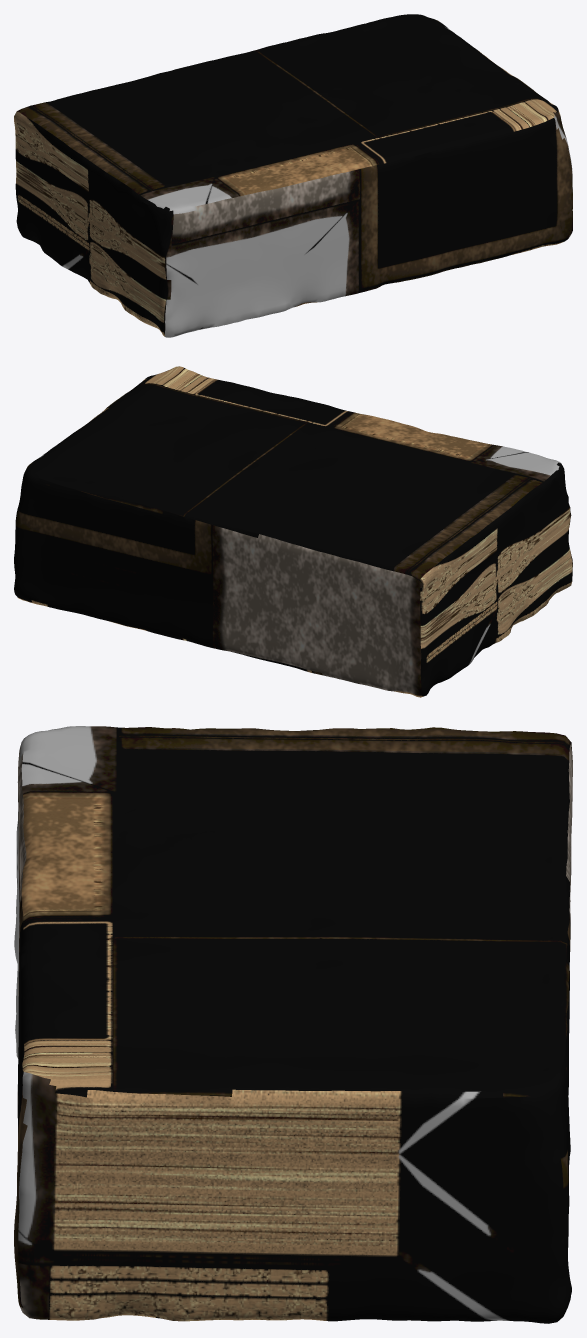
File: CigarBox.fbx
3 views of the same model, one above another, from view 1: azimuth 30°, elevation 25°; view 2: azimuth 150°, elevation 25°; view 3: azimuth 270°, elevation 25° (orthographic). The views are drawn at different scales.
Parts seen in each view (by area): view 1: Object_2; view 2: Object_2; view 3: Object_2.
Boxes of the visible parts, x1=… form: Object_2: x1=14, y1=14, x2=572, y2=337; Object_2: x1=14, y1=366, x2=572, y2=697; Object_2: x1=14, y1=726, x2=572, y2=1323.
Bounding box in the file's own units: 23711 × 7265 × 15164.
